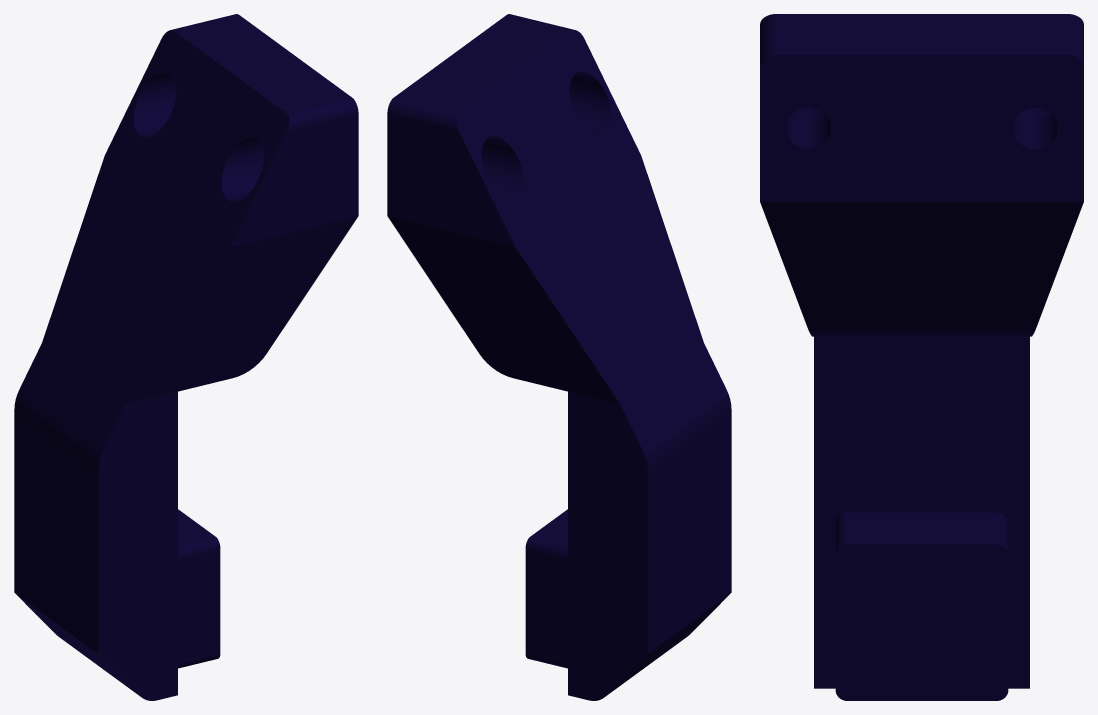
Rendered from kuka_gripper_2.dae.
The picture shows the model from 3 angles, left to right: view 1: azimuth 30°, elevation 25°; view 2: azimuth 150°, elevation 25°; view 3: azimuth 270°, elevation 25°; orthographic projection. The views are drawn at different scales.
Visible parts, largest first — view 1: kuka_gripper_2; view 2: kuka_gripper_2; view 3: kuka_gripper_2.
Boxes of the visible parts, <box> form: kuka_gripper_2: <box>14,14,358,700</box>; kuka_gripper_2: <box>387,14,731,700</box>; kuka_gripper_2: <box>760,14,1083,700</box>.
Size of the model in its own units: 0.033 by 0.03 by 0.075.
